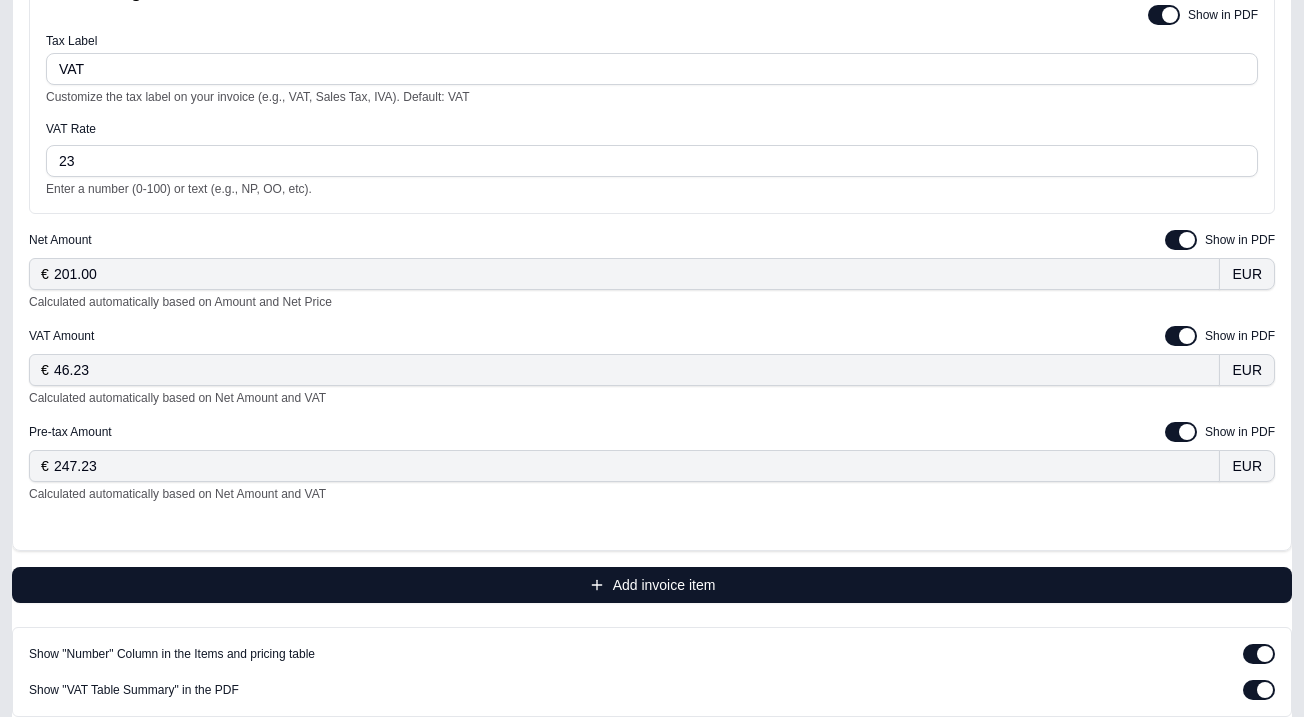
Test: InvoiceItems max invoice items › shows the default add-item tooltip when below the limit
(page scrolled)
Hover over the button "Add invoice item".
mouse_move(652, 585)  # box [12,567,1292,603]
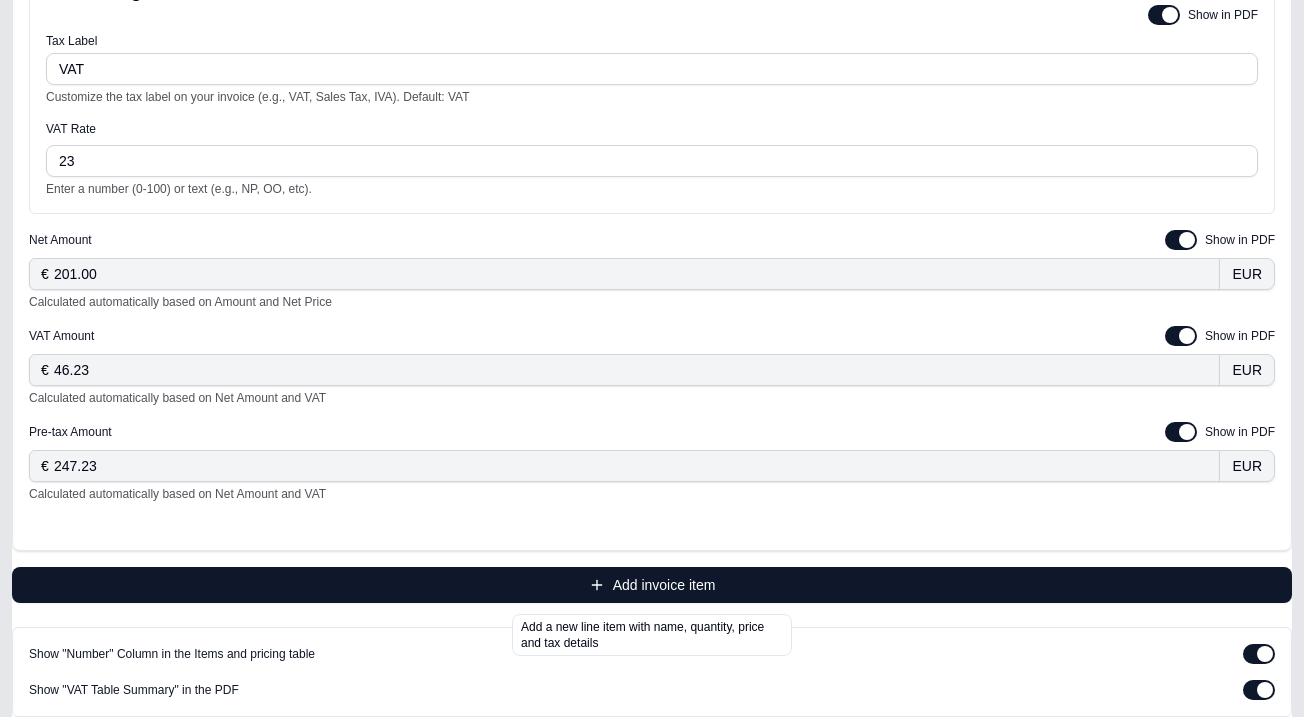
Expected: the tooltip reads "Add a new line item with name, quantity, price and tax details", [521,620,764,650]
